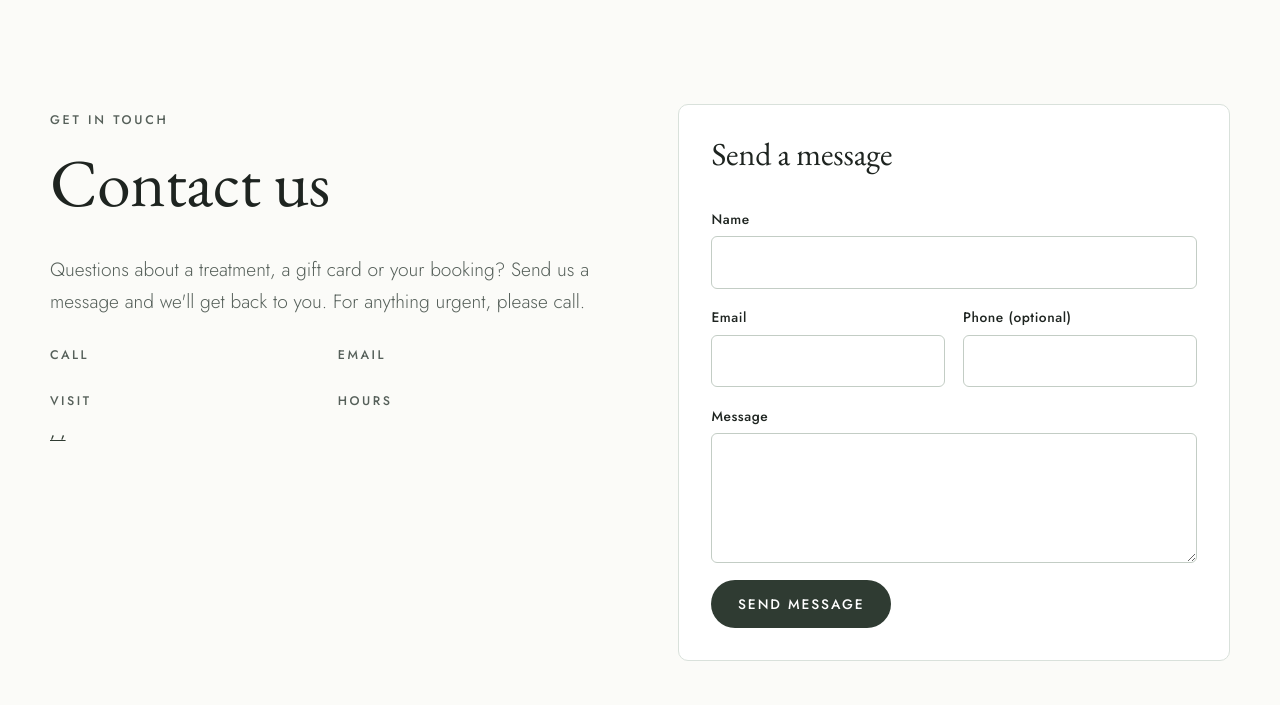
Test: Contact form › keeps the message and shows an error when the network fails
The width and height of the screenshot is (1280, 705).
Type "Grace Hopper" into the field labelled "Name" at (954, 262), box x1=711 y1=236 x2=1197 y2=289
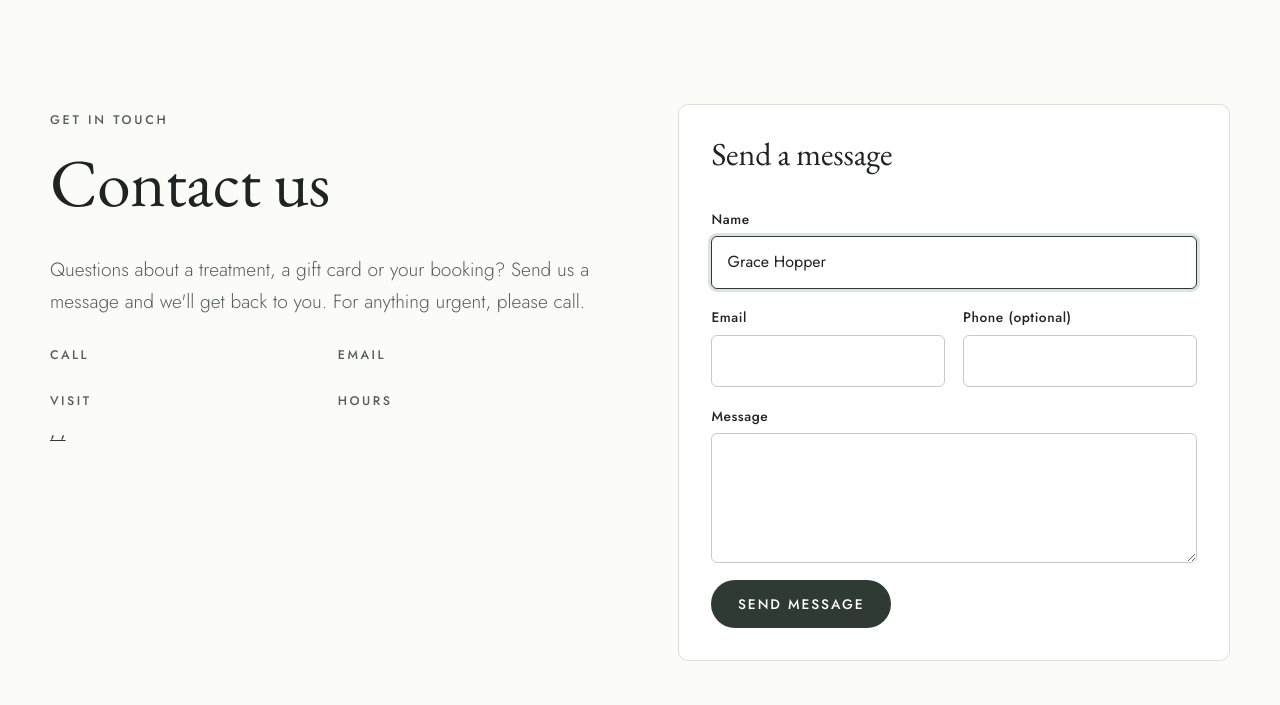
Type "grace@example.com" into the field labelled "Email" at (828, 361), box x1=711 y1=335 x2=945 y2=387
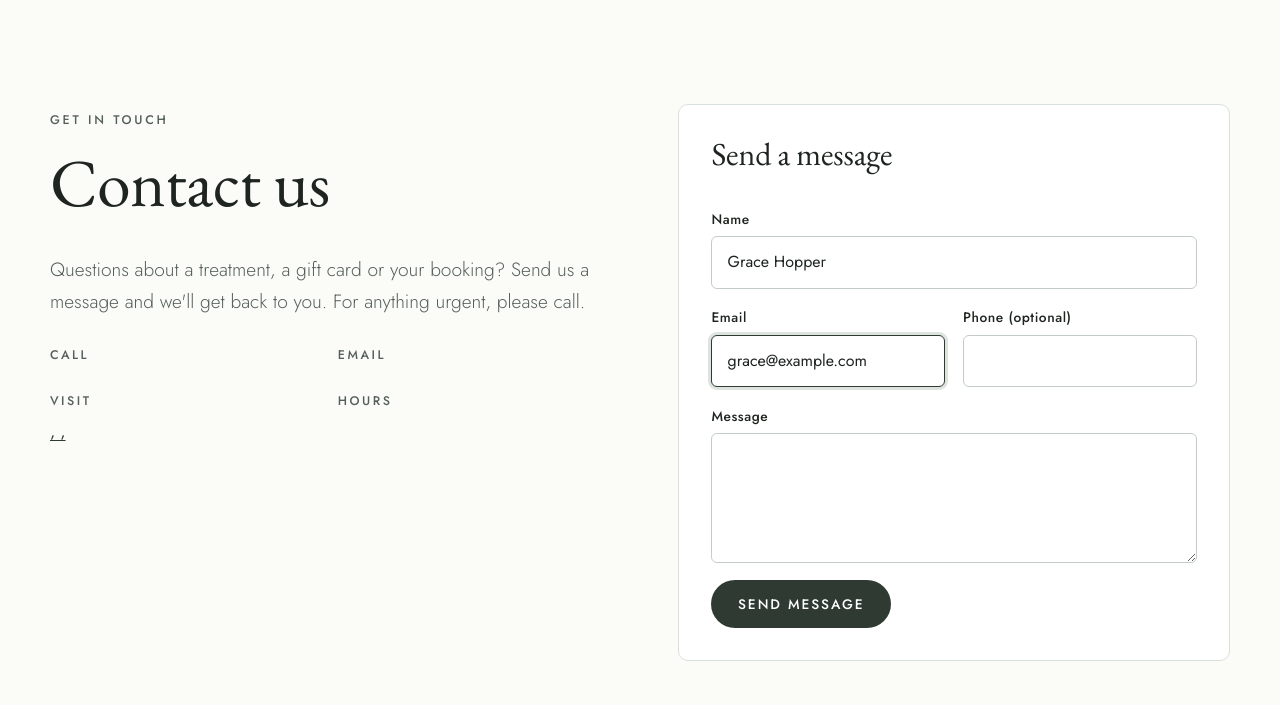
Type "Do you have parking?" into the text box labelled "Message" at (954, 498), box x1=711 y1=433 x2=1197 y2=563
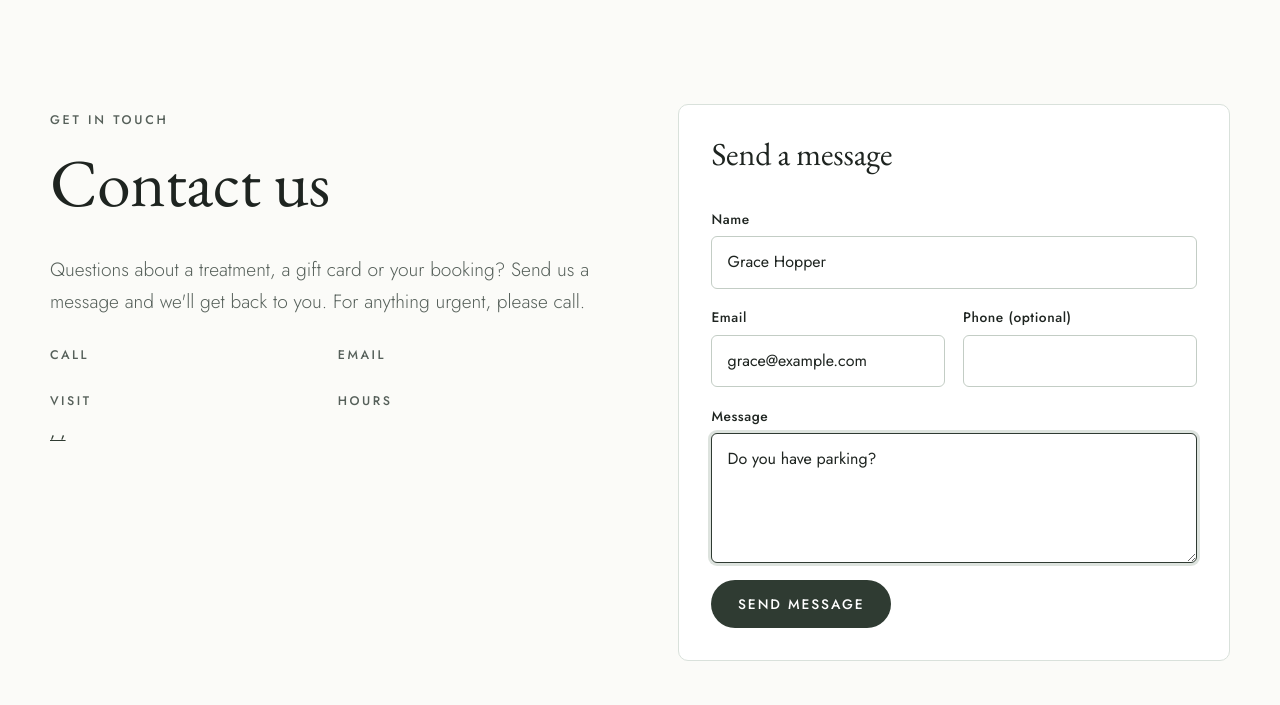
Click the button "Send message" at (801, 604), box x1=711 y1=580 x2=891 y2=628
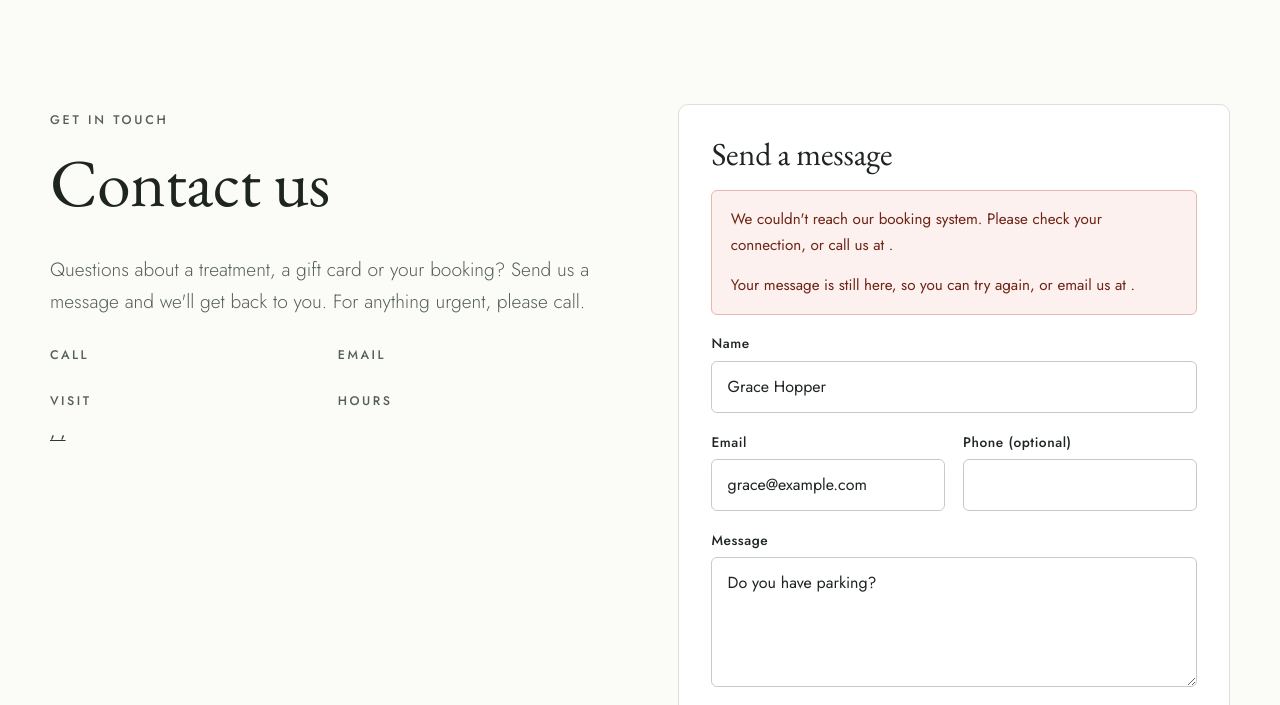
Result: the message shows "couldn't reach" at x1=731 y1=208 x2=1102 y2=256
